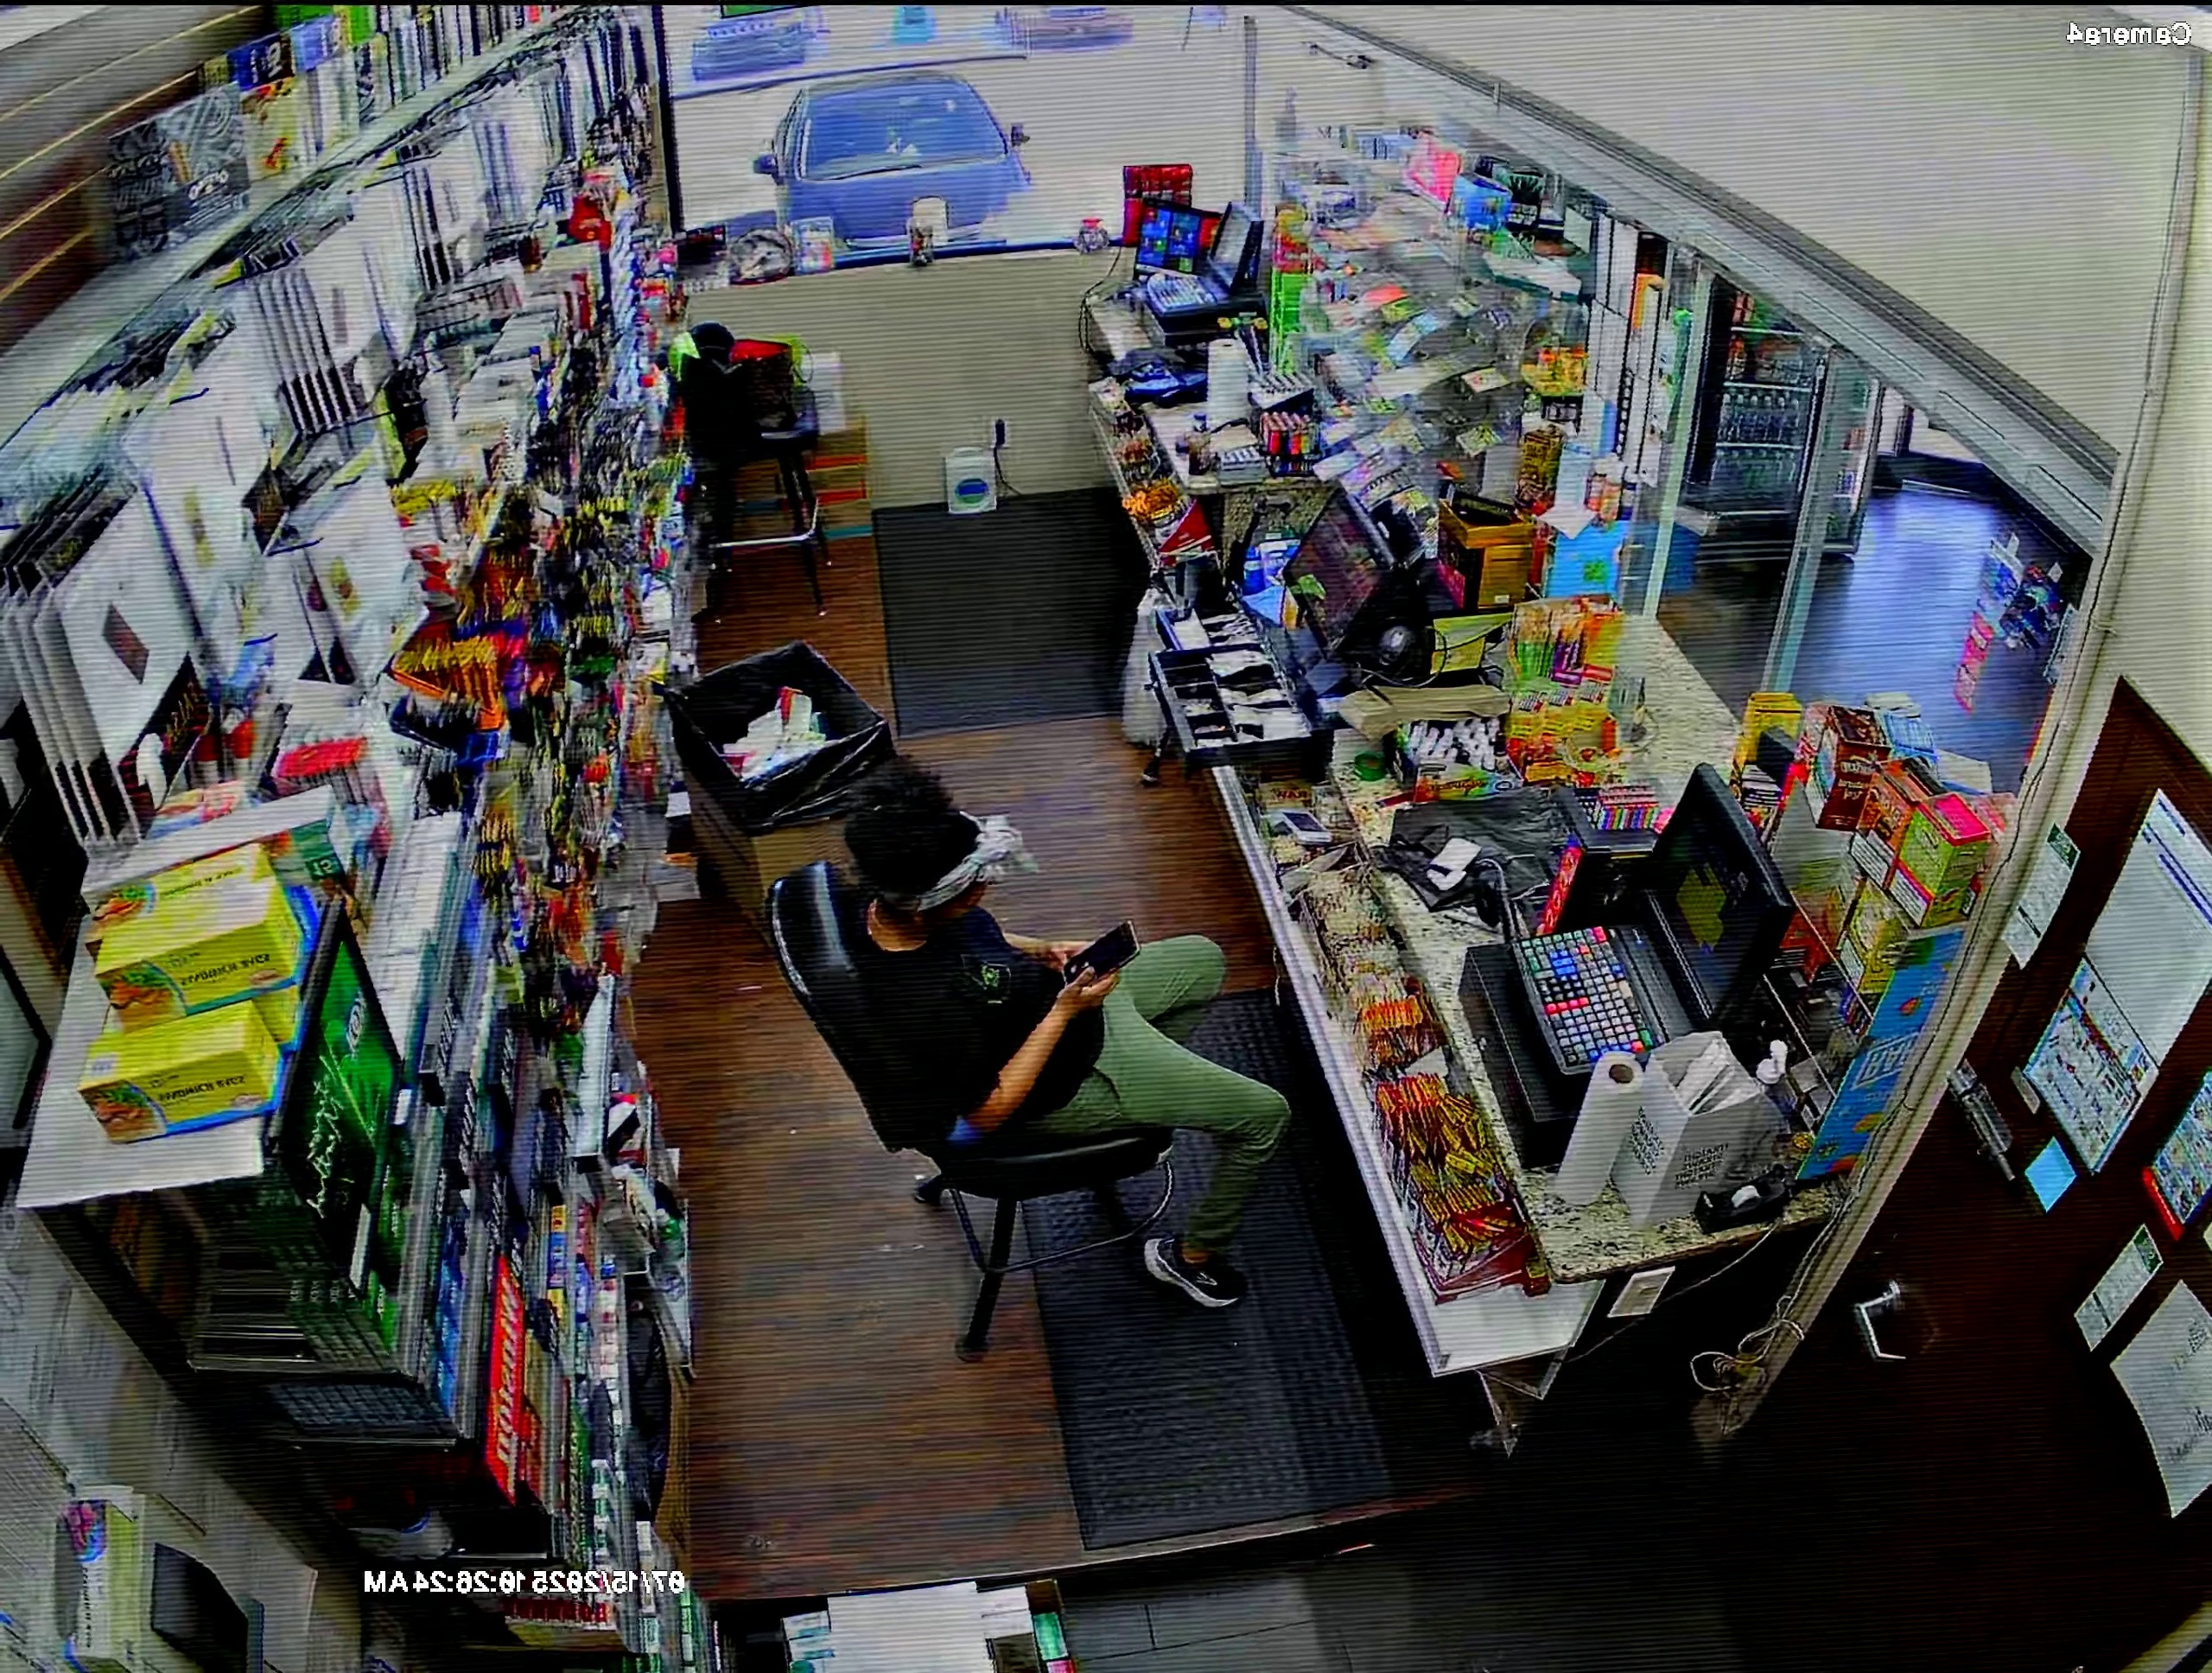phone: (1051, 909, 1146, 1003)
